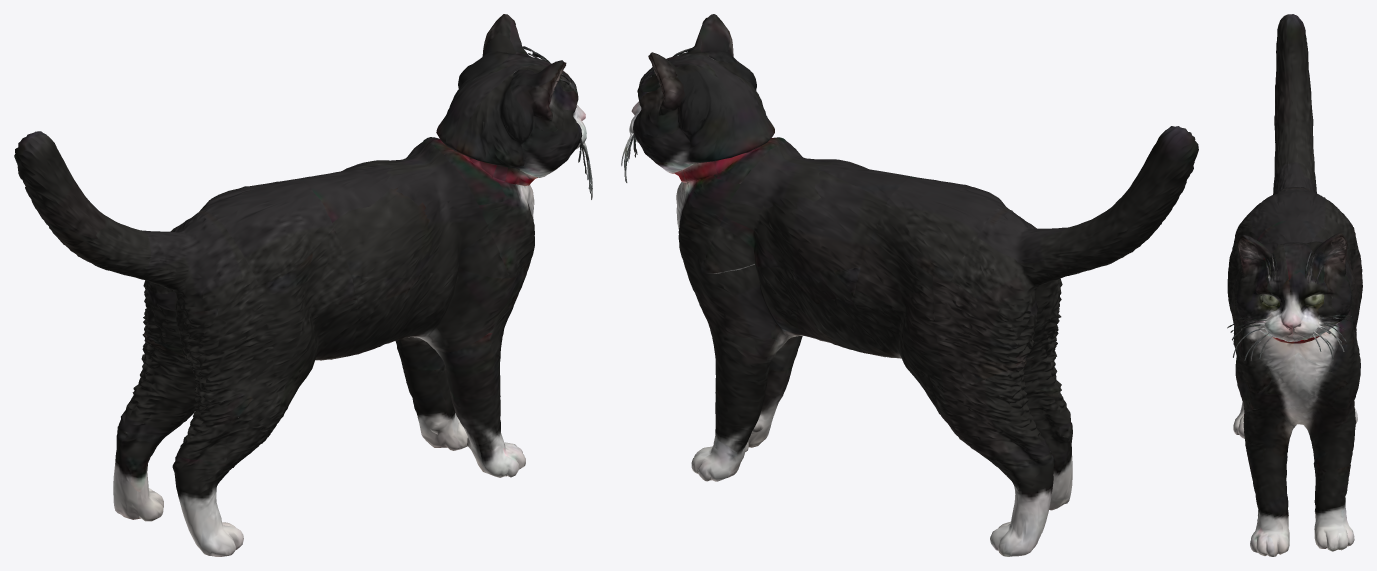
The model's file is JESSCAT.glb.
3 views of the same model, side by side, from view 1: azimuth 30°, elevation 25°; view 2: azimuth 150°, elevation 25°; view 3: azimuth 270°, elevation 25° (orthographic). The views are drawn at different scales.
Visible parts, largest first — view 1: tripo_node_d6791906-fa98-44ae-a153-55eb6a9fd0e4; view 2: tripo_node_d6791906-fa98-44ae-a153-55eb6a9fd0e4; view 3: tripo_node_d6791906-fa98-44ae-a153-55eb6a9fd0e4.
Part boxes in pixels (left/top/right/bottom): tripo_node_d6791906-fa98-44ae-a153-55eb6a9fd0e4: left=14, top=14, right=592, bottom=556; tripo_node_d6791906-fa98-44ae-a153-55eb6a9fd0e4: left=621, top=14, right=1198, bottom=556; tripo_node_d6791906-fa98-44ae-a153-55eb6a9fd0e4: left=1227, top=14, right=1362, bottom=556.
Bounding box in the file's own units: 1.35 × 0.9997 × 0.3446.
Materials: 1 (1 with a texture image).
